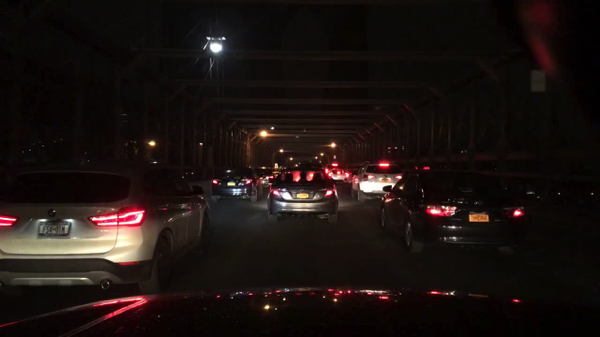car: (0, 160, 210, 294), (379, 169, 526, 255), (267, 166, 340, 224), (351, 162, 401, 204), (209, 167, 259, 204), (254, 167, 276, 186), (329, 169, 347, 182), (324, 162, 339, 172), (298, 160, 321, 166), (348, 169, 355, 182), (272, 167, 280, 175)
traffic sign: (528, 71, 545, 92)
